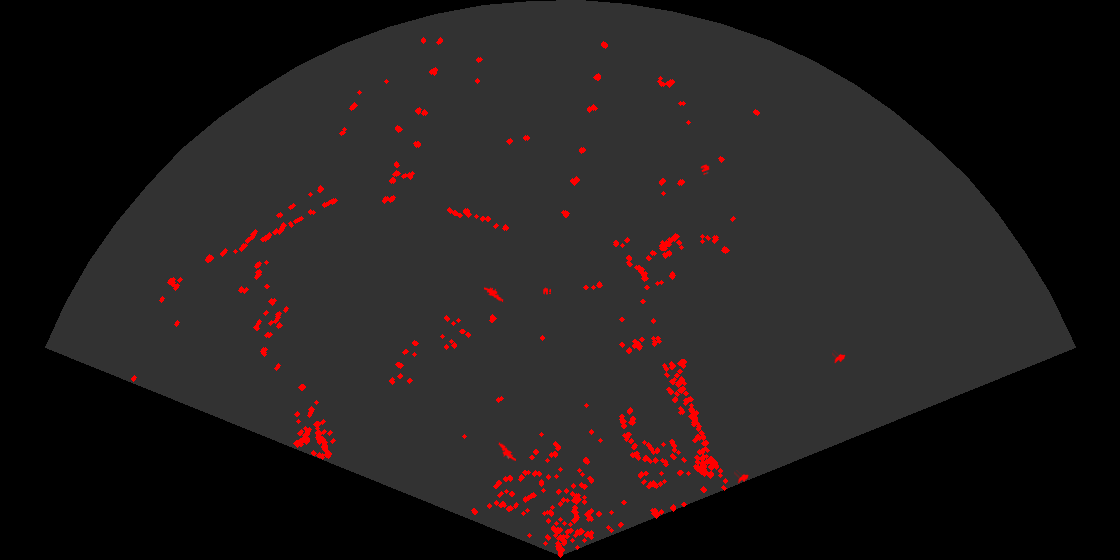AUV: (734, 470, 750, 485), (832, 350, 847, 365)
ball: (699, 163, 711, 177), (542, 286, 552, 296)
frogman: (494, 440, 516, 461), (484, 285, 507, 303)
